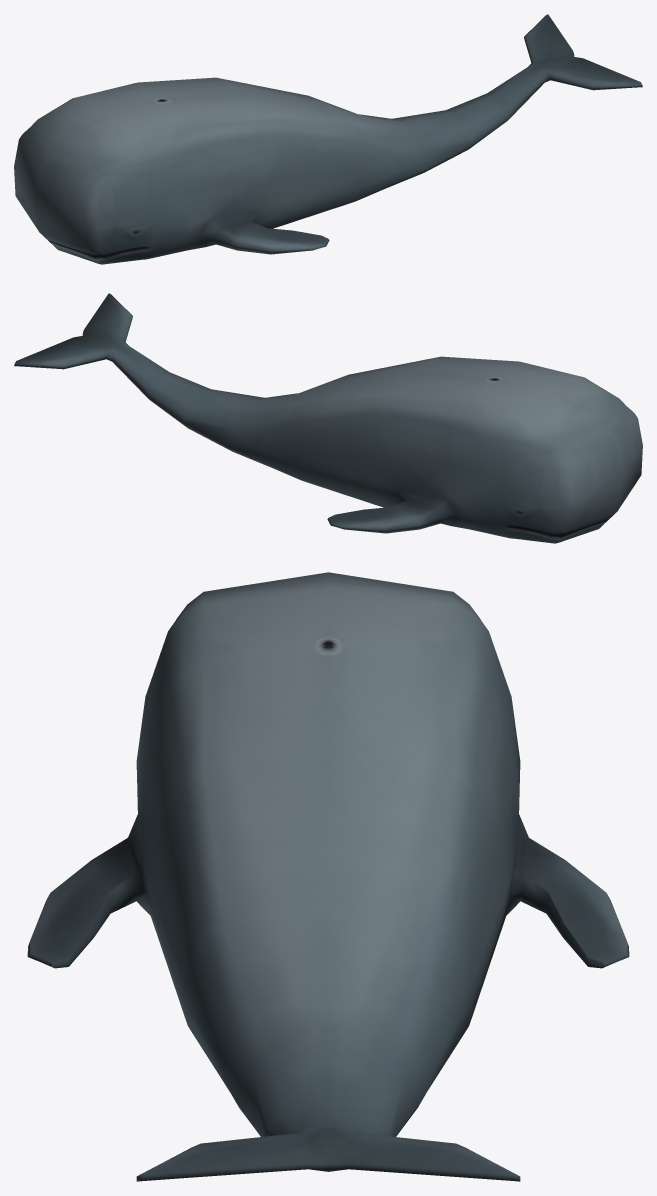
The model's file is Whale_A.FBX.
3 views of the same model, one above another, from view 1: azimuth 30°, elevation 25°; view 2: azimuth 150°, elevation 25°; view 3: azimuth 270°, elevation 25° (orthographic). The views are drawn at different scales.
Visible parts, largest first — view 1: Msh_Whale; view 2: Msh_Whale; view 3: Msh_Whale.
Boxes of the visible parts, left/top/right/bottom form: Msh_Whale: left=14, top=14, right=642, bottom=264; Msh_Whale: left=14, top=293, right=642, bottom=543; Msh_Whale: left=27, top=572, right=629, bottom=1181.
Size of the model in its own units: 163 by 35.72 by 75.72.
Materials: 1 (1 with a texture image).
